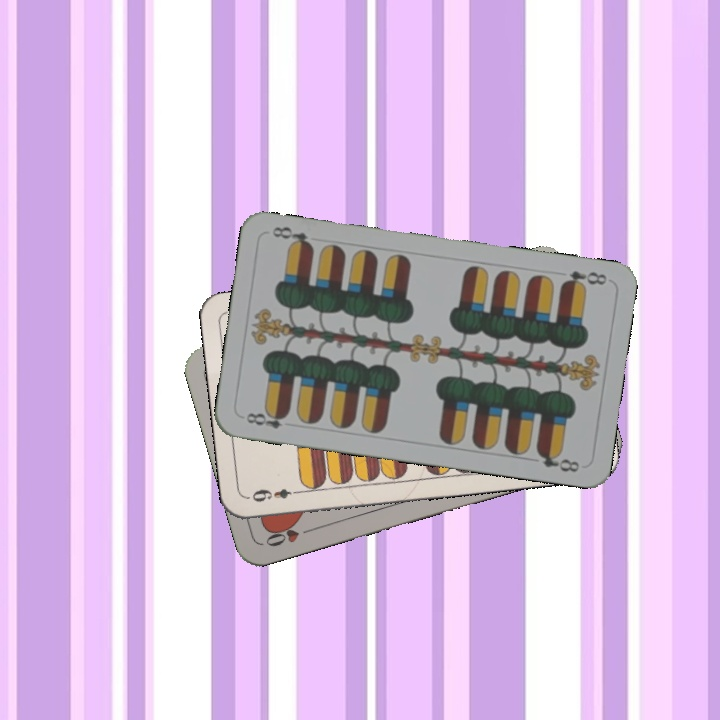E8: (557, 266, 609, 292), (239, 406, 291, 431)
E9: (245, 485, 304, 505)
HO: (261, 519, 318, 550)
